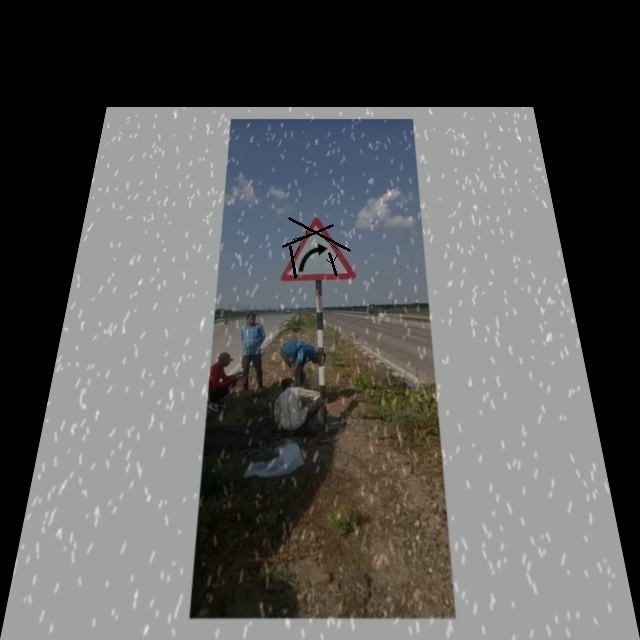Right_Hand_Curve: (281, 216, 353, 279)
